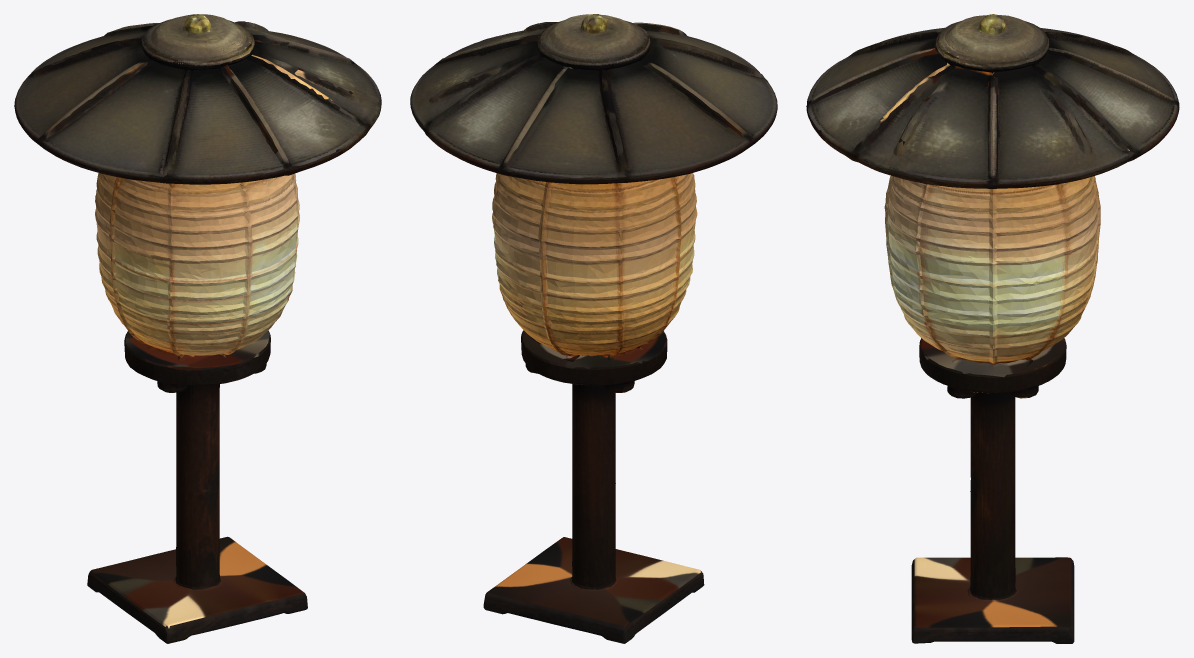
File: traveler_env_coast_kamen_hospitality_lantern_00001_.glb
3 views of the same model, side by side, from view 1: azimuth 30°, elevation 25°; view 2: azimuth 150°, elevation 25°; view 3: azimuth 270°, elevation 25° (orthographic).
Visible parts, largest first — view 1: temp_mesh.ply; view 2: temp_mesh.ply; view 3: temp_mesh.ply.
Boxes of the visible parts, x1,y1,x2,y2 form: temp_mesh.ply: [14, 14, 381, 643]; temp_mesh.ply: [410, 14, 777, 643]; temp_mesh.ply: [806, 14, 1179, 643].
Bounding box in the file's own units: 1.12 × 1.97 × 1.12.
1 material, 1 textured.
